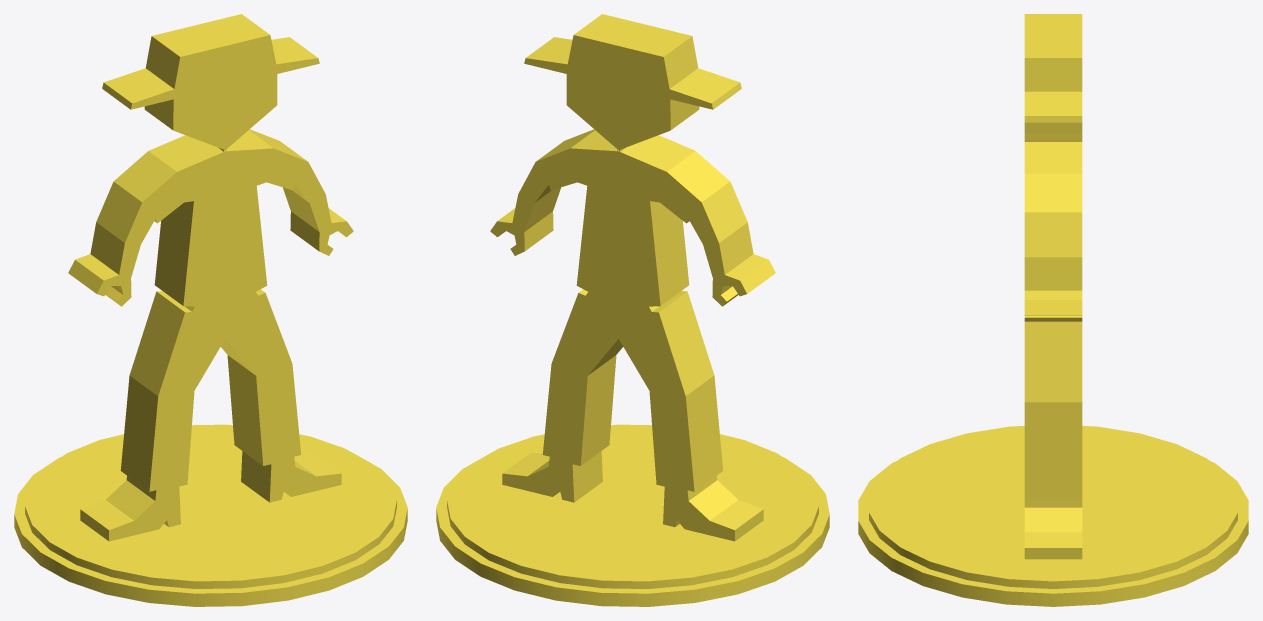
File: pierre.gltf
The picture shows the model from 3 angles, left to right: view 1: azimuth 30°, elevation 25°; view 2: azimuth 150°, elevation 25°; view 3: azimuth 270°, elevation 25°; orthographic projection.
Parts seen in each view (by area): view 1: bernadette; view 2: bernadette; view 3: bernadette.
Boxes of the visible parts, box(x1,y1,x2,y2) form: bernadette: box(14, 14, 407, 606); bernadette: box(436, 14, 829, 606); bernadette: box(858, 14, 1248, 606).
Bounding box in the file's own units: 0.6339 × 0.8675 × 0.6292.
